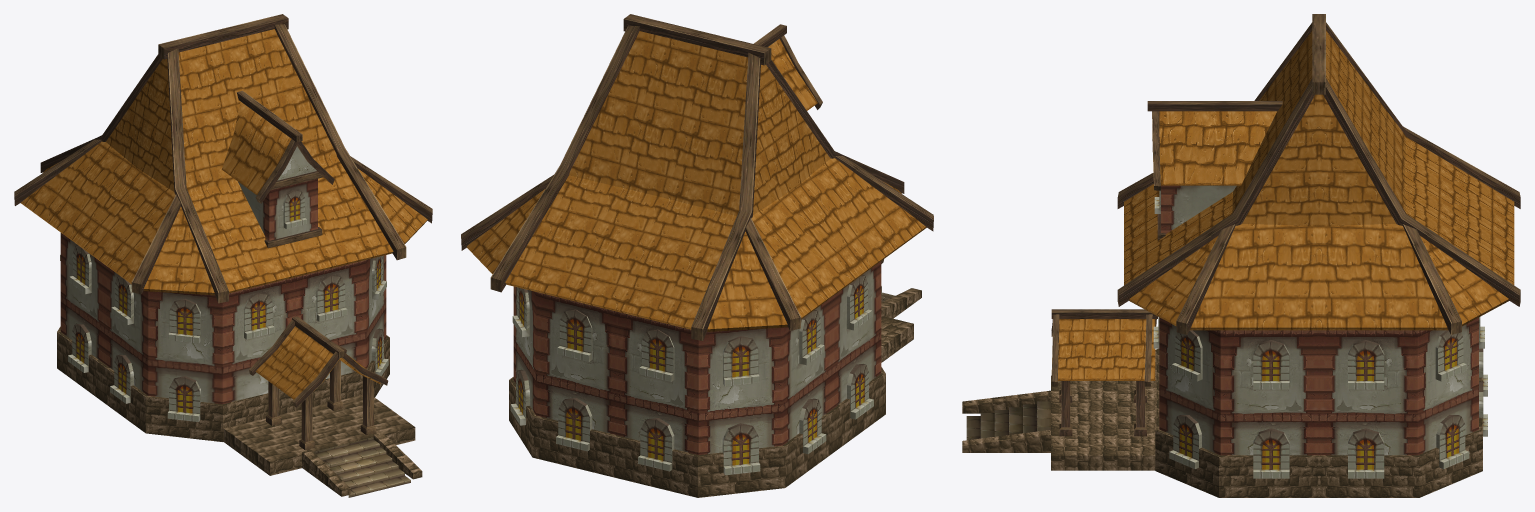
File: Battle04_Building_04.FBX
The picture shows the model from 3 angles, left to right: view 1: azimuth 30°, elevation 25°; view 2: azimuth 150°, elevation 25°; view 3: azimuth 270°, elevation 25°; orthographic projection. The views are drawn at different scales.
Parts seen in each view (by area): view 1: Battle04_Building_04_01, Battle04_Building_04_02, Battle04_Building_04_03, Battle04_Building_04_04, Battle04_Building_04_05; view 2: Battle04_Building_04_01, Battle04_Building_04_02, Battle04_Building_04_03, Battle04_Building_04_04; view 3: Battle04_Building_04_01, Battle04_Building_04_02, Battle04_Building_04_04, Battle04_Building_04_03, Battle04_Building_04_05.
Part boxes in pixels (<box>): Battle04_Building_04_01: <box>21,29,427,399</box>; Battle04_Building_04_02: <box>60,146,388,421</box>; Battle04_Building_04_03: <box>14,14,432,450</box>; Battle04_Building_04_04: <box>57,326,422,496</box>; Battle04_Building_04_05: <box>314,437,410,497</box>; Battle04_Building_04_01: <box>466,31,926,331</box>; Battle04_Building_04_02: <box>510,261,881,475</box>; Battle04_Building_04_03: <box>461,14,933,340</box>; Battle04_Building_04_04: <box>509,288,921,497</box>; Battle04_Building_04_01: <box>1058,30,1514,380</box>; Battle04_Building_04_02: <box>1153,185,1487,478</box>; Battle04_Building_04_04: <box>962,348,1482,497</box>; Battle04_Building_04_03: <box>1051,14,1520,436</box>; Battle04_Building_04_05: <box>966,401,1050,440</box>.
Bounding box in the file's own units: 21.33 × 23.33 × 30.42.
